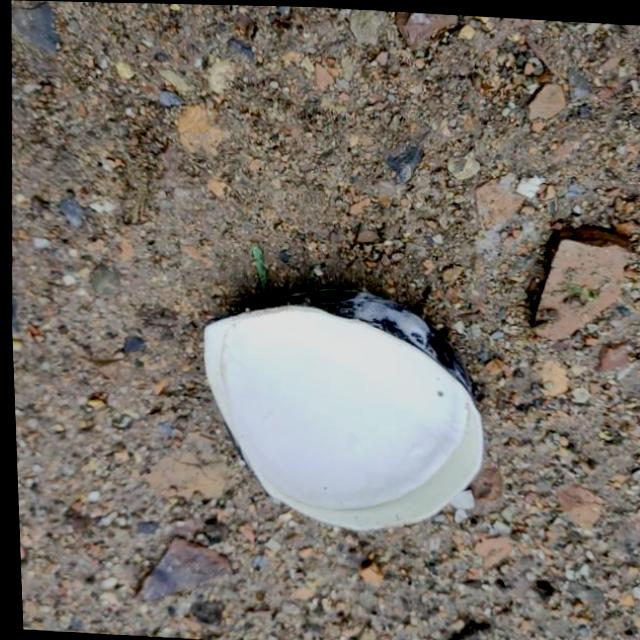Paper: (187, 272, 495, 540)
